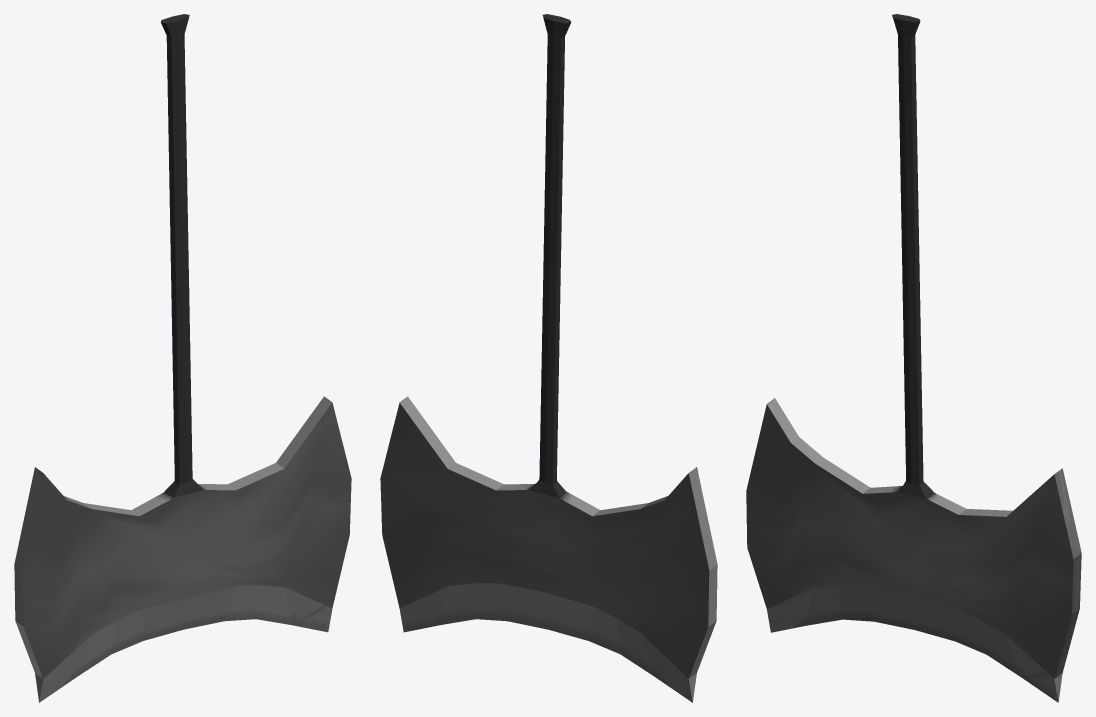
Rendered from HachaConMaterial.fbx.
3 views of the same model, side by side, from view 1: azimuth 30°, elevation 25°; view 2: azimuth 150°, elevation 25°; view 3: azimuth 330°, elevation 25° (orthographic).
Parts seen in each view (by area): view 1: Cube.001; view 2: Cube.001; view 3: Cube.001.
Boxes of the visible parts, left/top/right/bottom form: Cube.001: left=14, top=14, right=351, bottom=702; Cube.001: left=380, top=14, right=717, bottom=702; Cube.001: left=746, top=14, right=1081, bottom=702.
Size of the model in its own units: 227 by 431 by 11.87.
